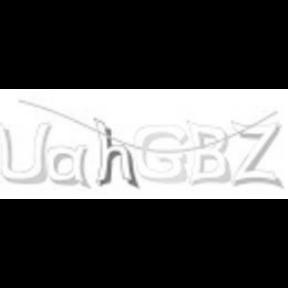B: (186, 119, 230, 187)
G: (134, 122, 188, 186)
U: (0, 120, 54, 184)
Z: (230, 118, 282, 188)
a: (46, 144, 92, 190)
h: (94, 114, 138, 192)
